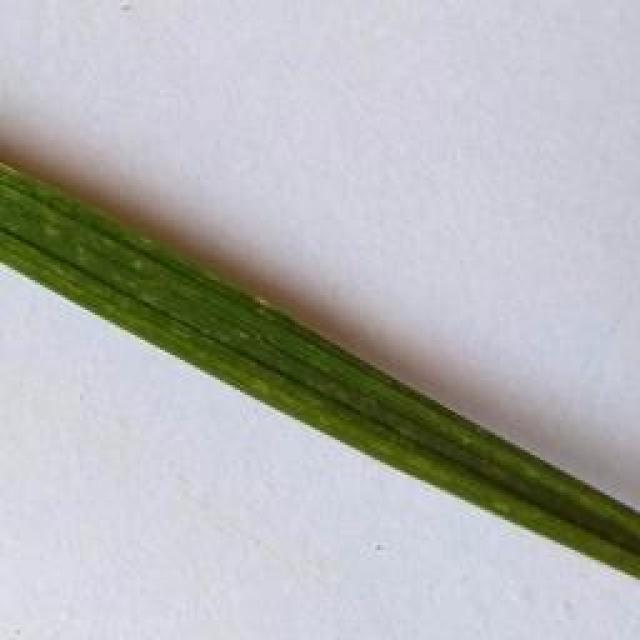Healthy-Plant: (0, 161, 640, 581)
